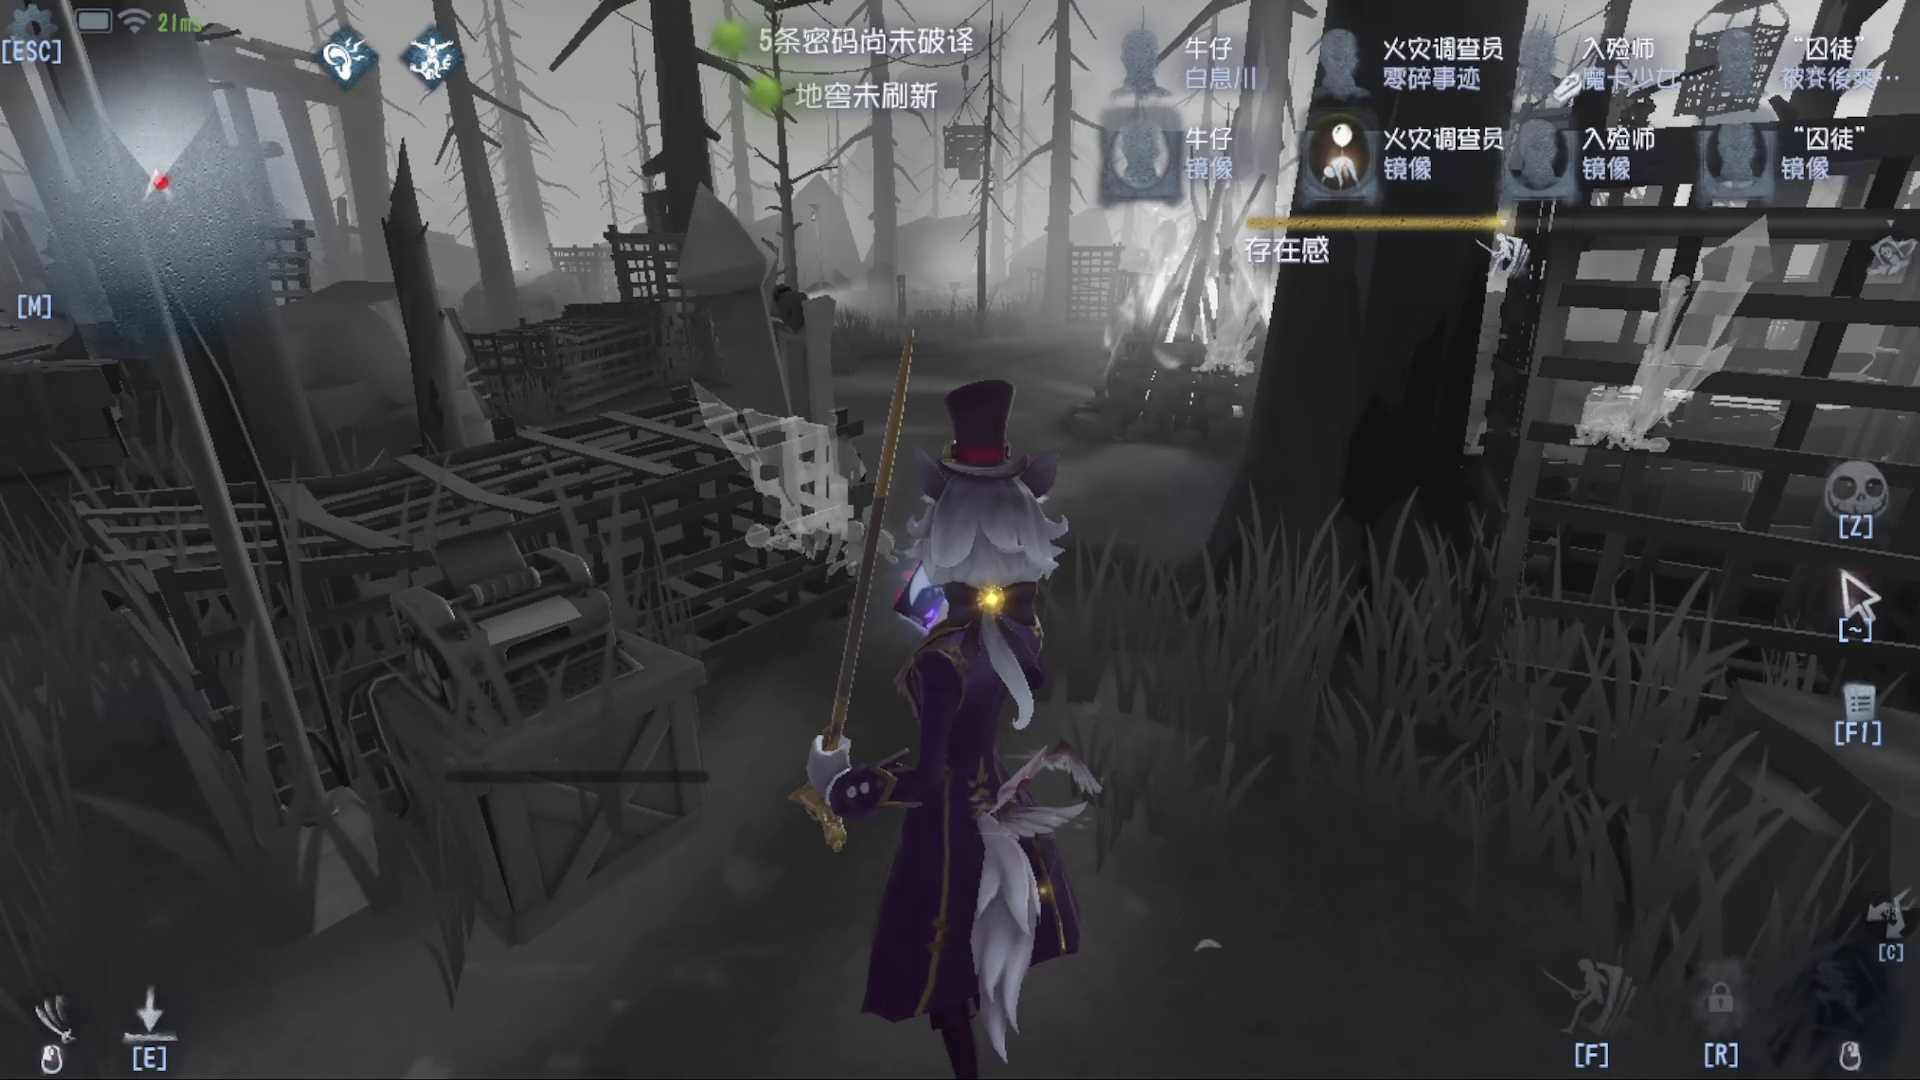密码机: (301, 497, 727, 924)
狂欢之椅: (651, 175, 885, 583)
